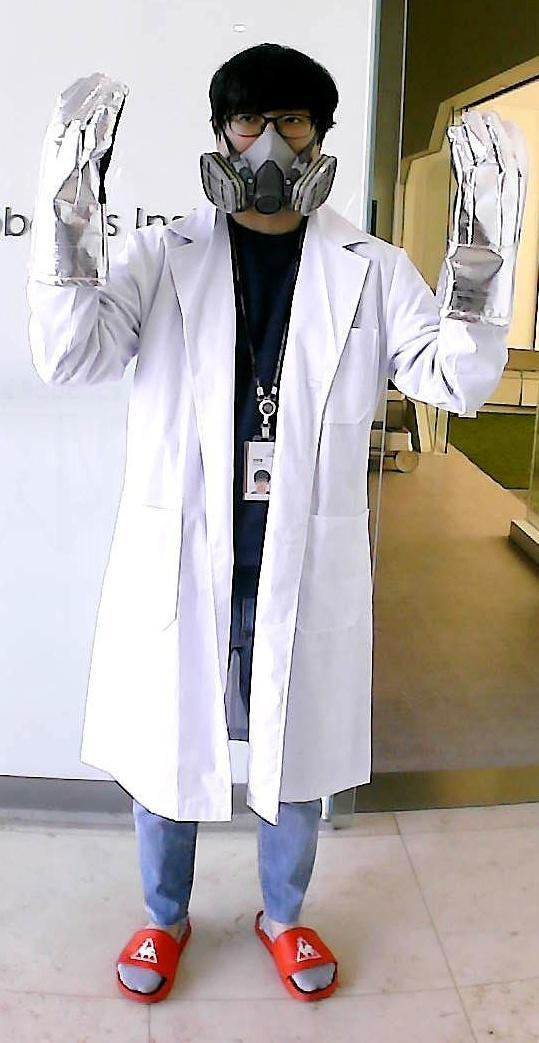lab_coat: (115, 222, 400, 804)
